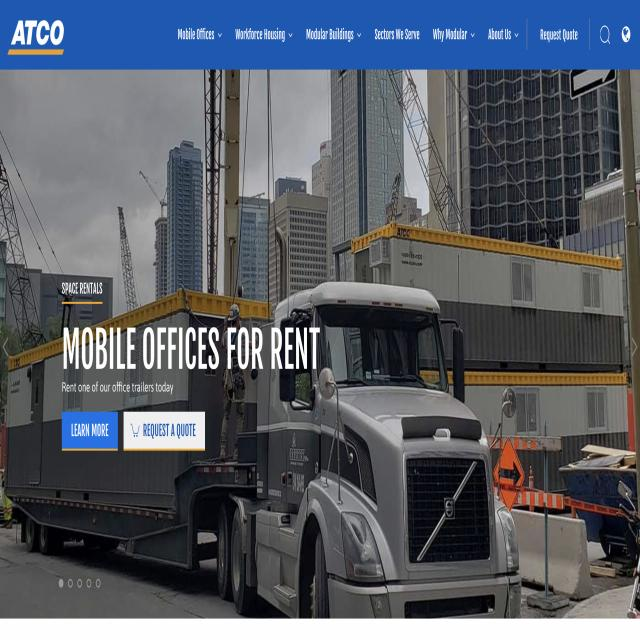Logo: (0, 0, 71, 64)
Navigation: (174, 12, 524, 53)
